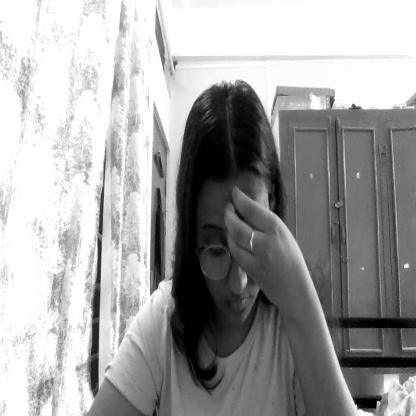Distracted: (194, 169, 270, 330)
